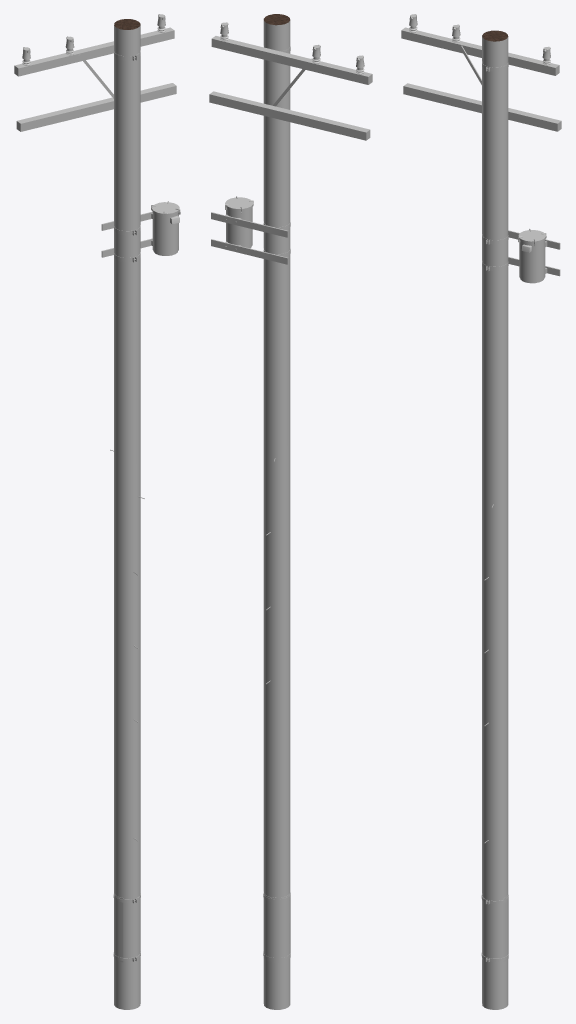
Rendered from denchuu_set02w.fbx.
The picture shows the model from 3 angles, left to right: view 1: azimuth 30°, elevation 25°; view 2: azimuth 150°, elevation 25°; view 3: azimuth 330°, elevation 25°; orthographic projection.
Parts seen in each view (by area): view 1: denchuu_set02w; view 2: denchuu_set02w; view 3: denchuu_set02w.
Part boxes in pixels (left/top/right/bottom): denchuu_set02w: left=14, top=14, right=180, bottom=1009; denchuu_set02w: left=209, top=14, right=372, bottom=1009; denchuu_set02w: left=401, top=14, right=561, bottom=1009.
Size of the model in its own units: 2.05 by 12 by 0.4956.
